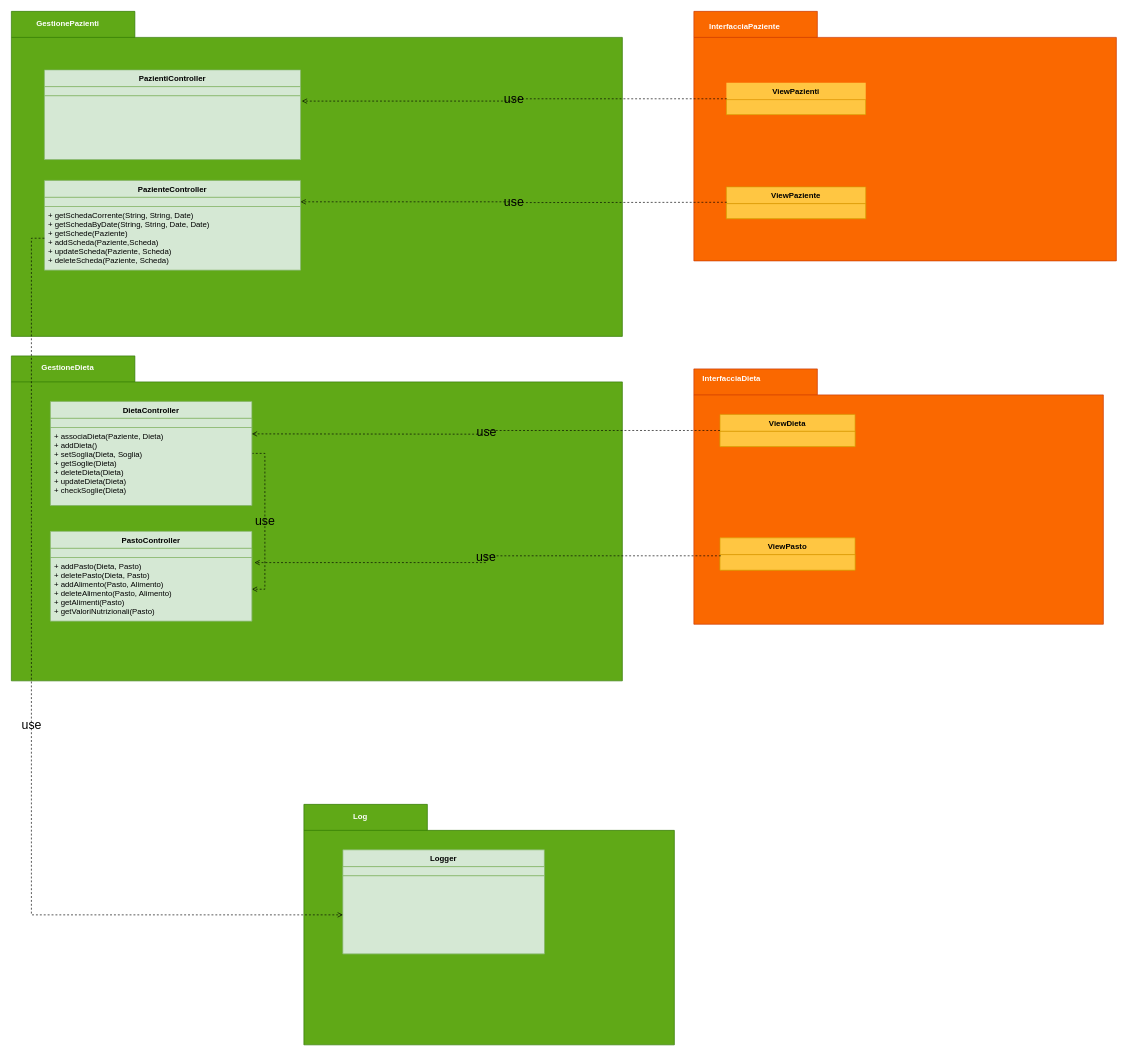
Some shapes in this 1128 by 1056 pixel diagram are drawn without their labels. Each missing label, with the centre of its shape:
"+ getPazienti() + getPaziente(String, String, Date) + registraPaziente(Paziente)" goes at [172,127].
"+aggiungiLog(Entry)" goes at [443,914].
